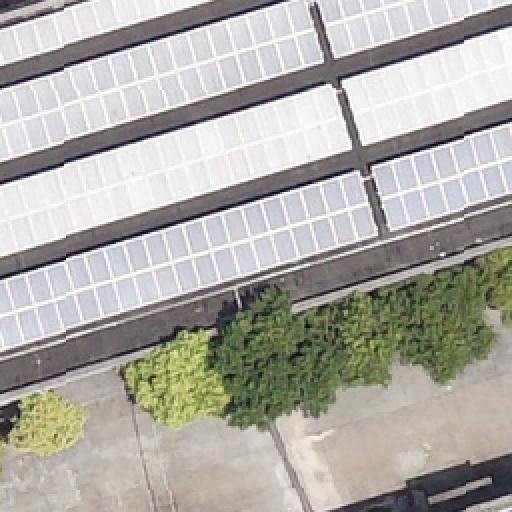solar-panel: (0, 170, 380, 350), (0, 81, 352, 255), (1, 0, 327, 164), (337, 26, 511, 146), (369, 122, 511, 234), (0, 0, 216, 64), (316, 1, 512, 63)
